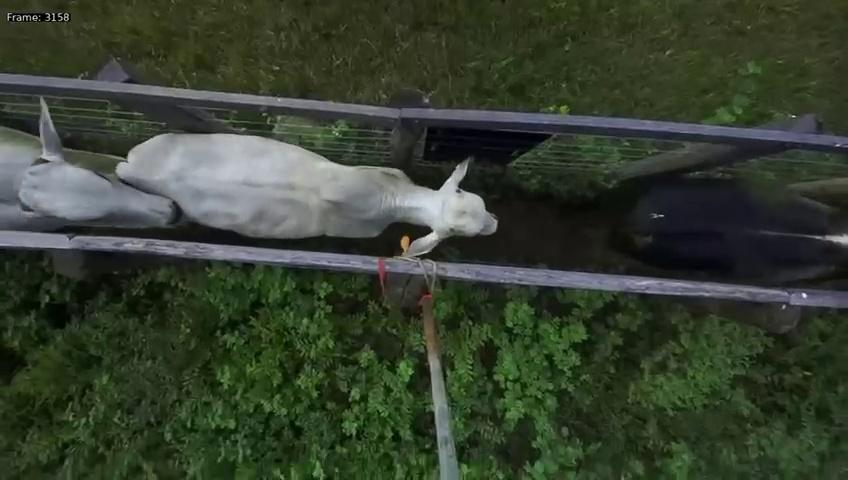cattle: (114, 88, 501, 257)
